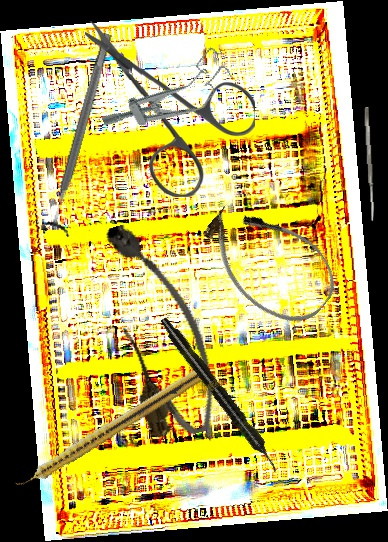Cannula: (91, 212, 228, 446), (188, 184, 350, 340)
Fixation Ring: (38, 29, 124, 238)
Handpiece: (12, 366, 202, 494), (156, 314, 284, 476)
Iris Scissors: (84, 18, 257, 199)
Spatula Surgical: (363, 106, 376, 222)
Speculum: (96, 43, 241, 153)
